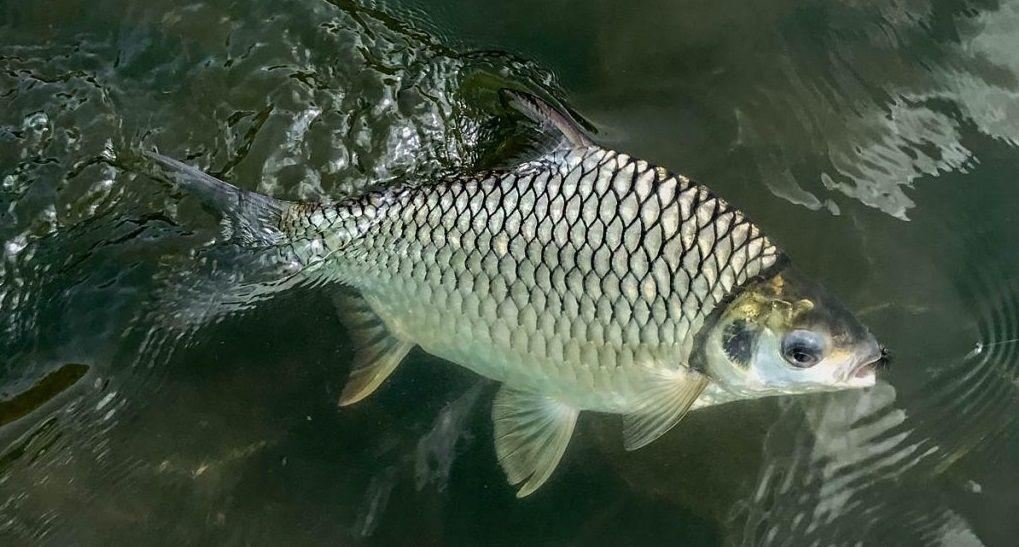Silver Barb: (125, 67, 896, 501)
